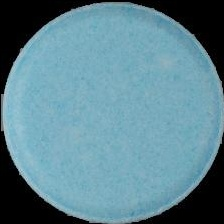49999-081: (0, 0, 224, 224)
